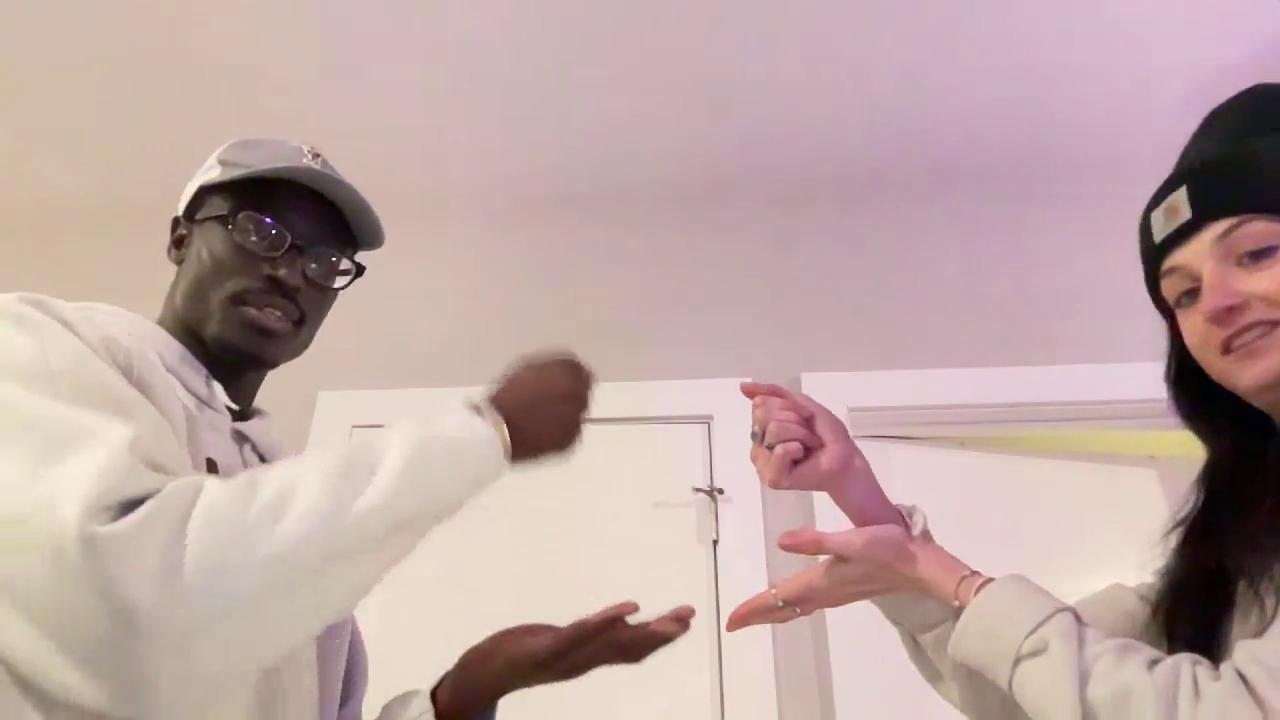Rock: (743, 382, 856, 497), (498, 350, 595, 457)
